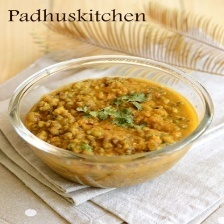dal: (25, 77, 199, 157)
